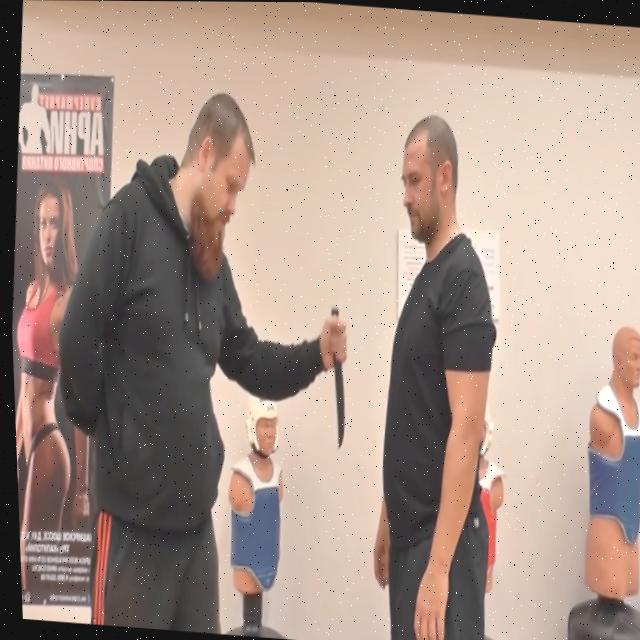knife: (322, 350, 346, 449)
